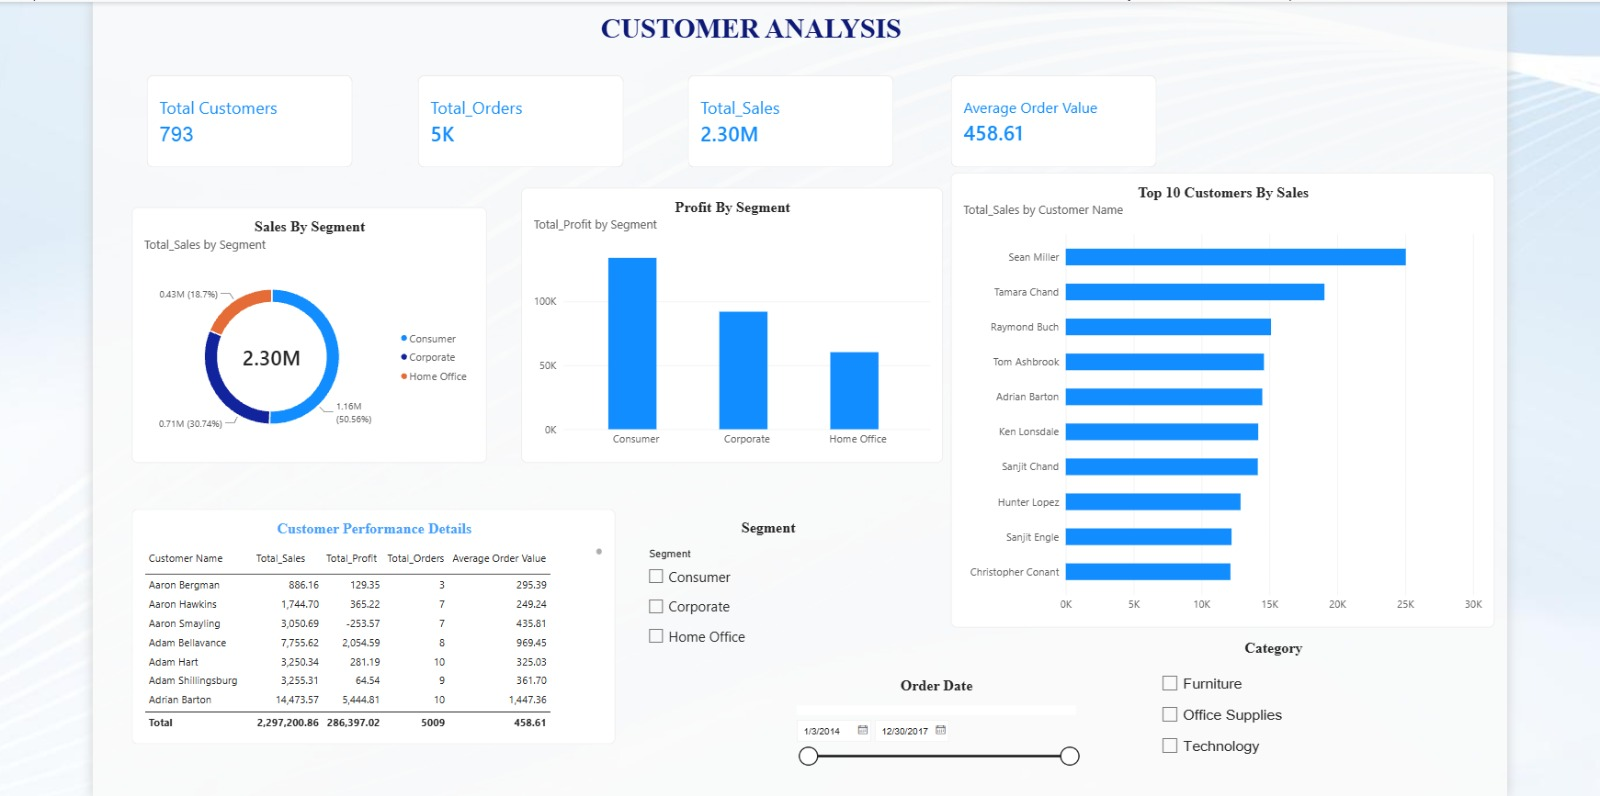

The page's visual inventory and layout, read from the dashboard file:
{"tool":"powerbi","page":{"name":"Customer Analysis","canvas":[1920,1080],"ordinal":3},"visuals":[{"type":"cardVisual","fields":{"Data":["Sample - Superstore.Total Customers"]},"box":[73.3,99.4,279.1,125.6],"z":0},{"type":"cardVisual","fields":{"Data":["Sample - Superstore.Total_Orders"]},"box":[441.3,99.4,279.1,125.6],"z":1000},{"type":"cardVisual","fields":{"Data":["Sample - Superstore.Total_Sales"]},"box":[807.6,99.4,279.1,125.6],"z":2000},{"type":"cardVisual","fields":{"Data":["Sample - Superstore.Average Order Value"]},"box":[1165.1,99.4,279.1,125.6],"z":3000},{"type":"donutChart","title":"Sales By Segment","fields":{"Category":["Sample - Superstore.Segment"],"Y":["Sample - Superstore.Total_Sales"]},"box":[52.3,279.1,481.4,347.1],"z":4000},{"type":"clusteredColumnChart","title":"Profit By Segment","fields":{"Category":["Sample - Superstore.Segment"],"Y":["Sample - Superstore.Total_Profit"]},"box":[580.8,252.9,572.1,373.3],"z":5000},{"type":"clusteredBarChart","title":"Top 10 Customers By Sales","fields":{"Category":["Sample - Superstore.Customer Name"],"Y":["Sample - Superstore.Total_Sales"]},"box":[1165.1,232,737.8,617.4],"z":6000},{"type":"tableEx","title":"Customer Performance Details","fields":{"Values":["Sample - Superstore.Customer Name","Sample - Superstore.Total_Sales","Sample - Superstore.Total_Profit","Sample - Superstore.Total_Orders","Sample - Superstore.Average Order Value"]},"box":[52.3,689,655.8,319.2],"z":7000},{"type":"slicer","title":"Order Date","fields":{"Values":["Sample - Superstore.Order Date"]},"box":[947.1,917.4,394.2,129.1],"z":8000},{"type":"slicer","title":"Segment","fields":{"Values":["Sample - Superstore.Segment"]},"box":[746.5,702.9,340.1,223.3],"z":9000},{"type":"slicer","title":"Category","fields":{"Values":["Sample - Superstore.Category"]},"box":[1444.2,866.9,317.4,165.7],"z":11000},{"type":"textbox","box":[352.3,14,914,52.3],"z":12000}]}

Visuals, with their boxes on the page's 1920x1080 design canvas (x1, y1, x2, y2). These are canvas units, not pixel positions in the 1600x796 screenshot, which may show the page scaled, cropped or inside an application window:
cardVisual - Sample - Superstore.Total Customers: bbox=[73, 99, 352, 225]
cardVisual - Sample - Superstore.Total_Orders: bbox=[441, 99, 720, 225]
cardVisual - Sample - Superstore.Total_Sales: bbox=[808, 99, 1087, 225]
cardVisual - Sample - Superstore.Average Order Value: bbox=[1165, 99, 1444, 225]
"Sales By Segment" donutChart: bbox=[52, 279, 534, 626]
"Profit By Segment" clusteredColumnChart: bbox=[581, 253, 1153, 626]
"Top 10 Customers By Sales" clusteredBarChart: bbox=[1165, 232, 1903, 849]
"Customer Performance Details" tableEx: bbox=[52, 689, 708, 1008]
"Order Date" slicer: bbox=[947, 917, 1341, 1046]
"Segment" slicer: bbox=[746, 703, 1087, 926]
"Category" slicer: bbox=[1444, 867, 1762, 1033]
textbox: bbox=[352, 14, 1266, 66]
